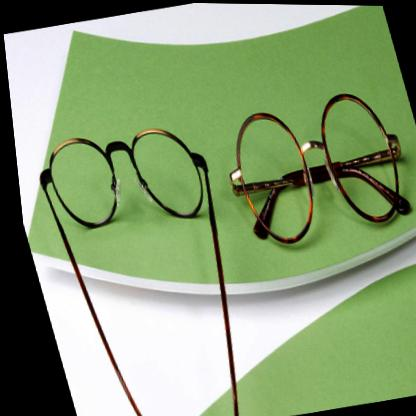Spectacles: (206, 82, 415, 255), (24, 112, 220, 244)
